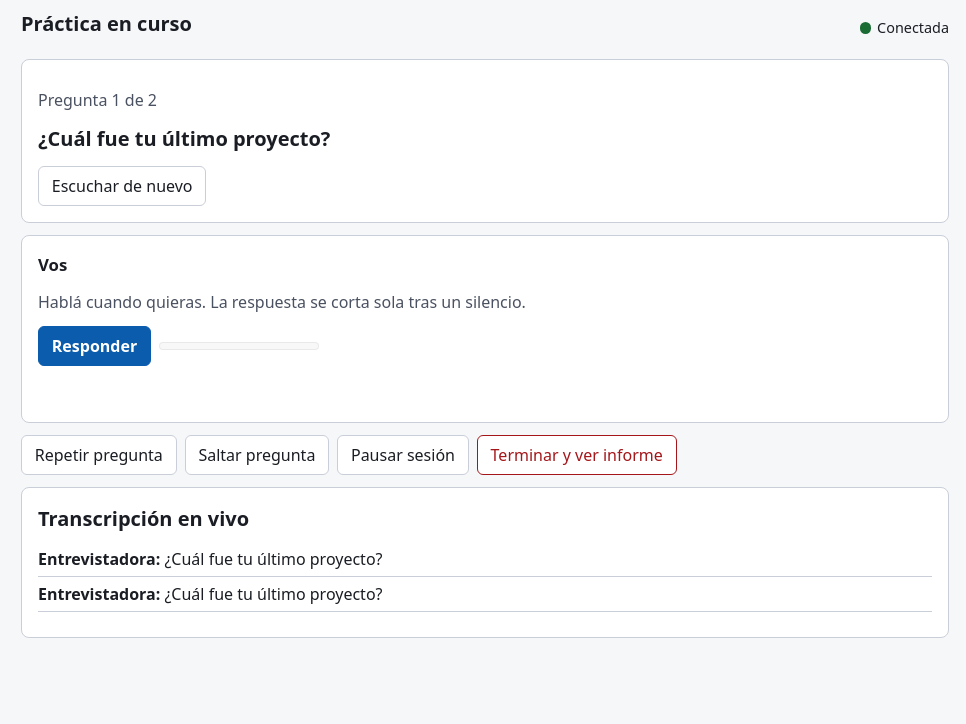
Scenario: SessionView › v1.1: intro sin "Pregunta 0", repetición marcada y el cierre no manda tts.played
Later steps or results of the test are not shown.
Step 1. Click the button "Repetir pregunta" → (99,455), box [21, 435, 177, 475]
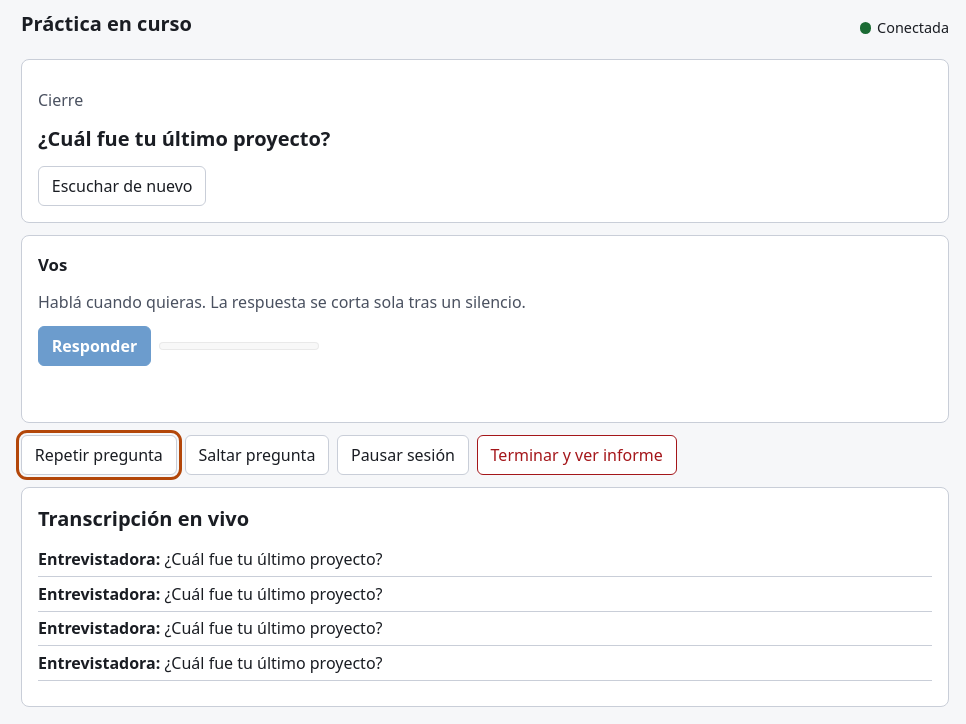
Now the text "Cierre" is shown, box [38, 89, 83, 111]
